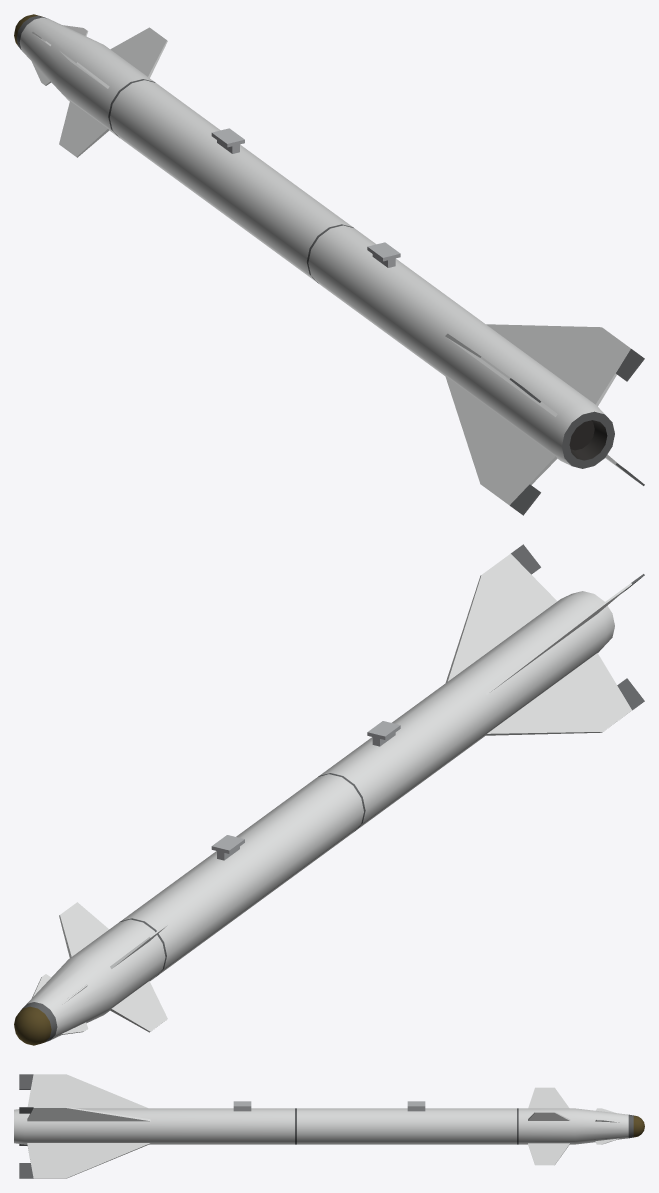
3 views of the same model, one above another, from view 1: azimuth 30°, elevation 25°; view 2: azimuth 150°, elevation 25°; view 3: azimuth 270°, elevation 25° (orthographic). The views are drawn at different scales.
Parts seen in each view (by area): view 1: r73; view 2: r73; view 3: r73.
Boxes of the visible parts, x1,y1,x2,y2 form: r73: (14,14,644,515); r73: (14,544,644,1045); r73: (14,1074,644,1178).
Size of the model in its own units: 0.3642 by 0.3642 by 2.9.
